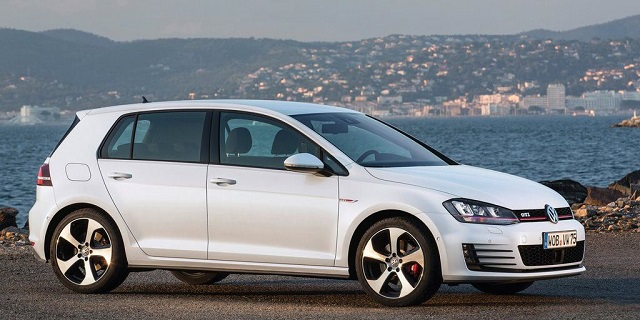car: (27, 98, 586, 301)
